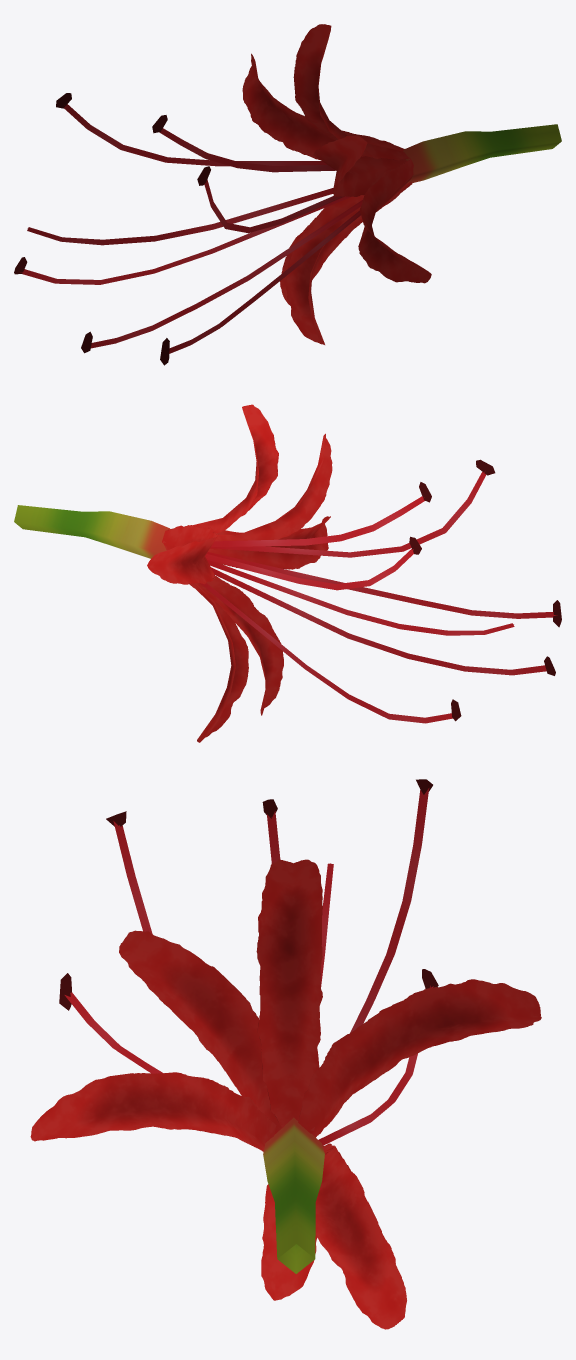
Rendered from m_lycoris08.fbx.
3 views of the same model, one above another, from view 1: azimuth 30°, elevation 25°; view 2: azimuth 150°, elevation 25°; view 3: azimuth 270°, elevation 25° (orthographic). The views are drawn at different scales.
Visible parts, largest first — view 1: mesh_lycoris08; view 2: mesh_lycoris08; view 3: mesh_lycoris08.
Boxes of the visible parts, box(x1,y1,x2,y2) form: mesh_lycoris08: box(14, 24, 561, 365); mesh_lycoris08: box(14, 404, 561, 742); mesh_lycoris08: box(30, 779, 541, 1329).
Bounding box in the file's own units: 0.1928 × 0.1214 × 0.1231.
